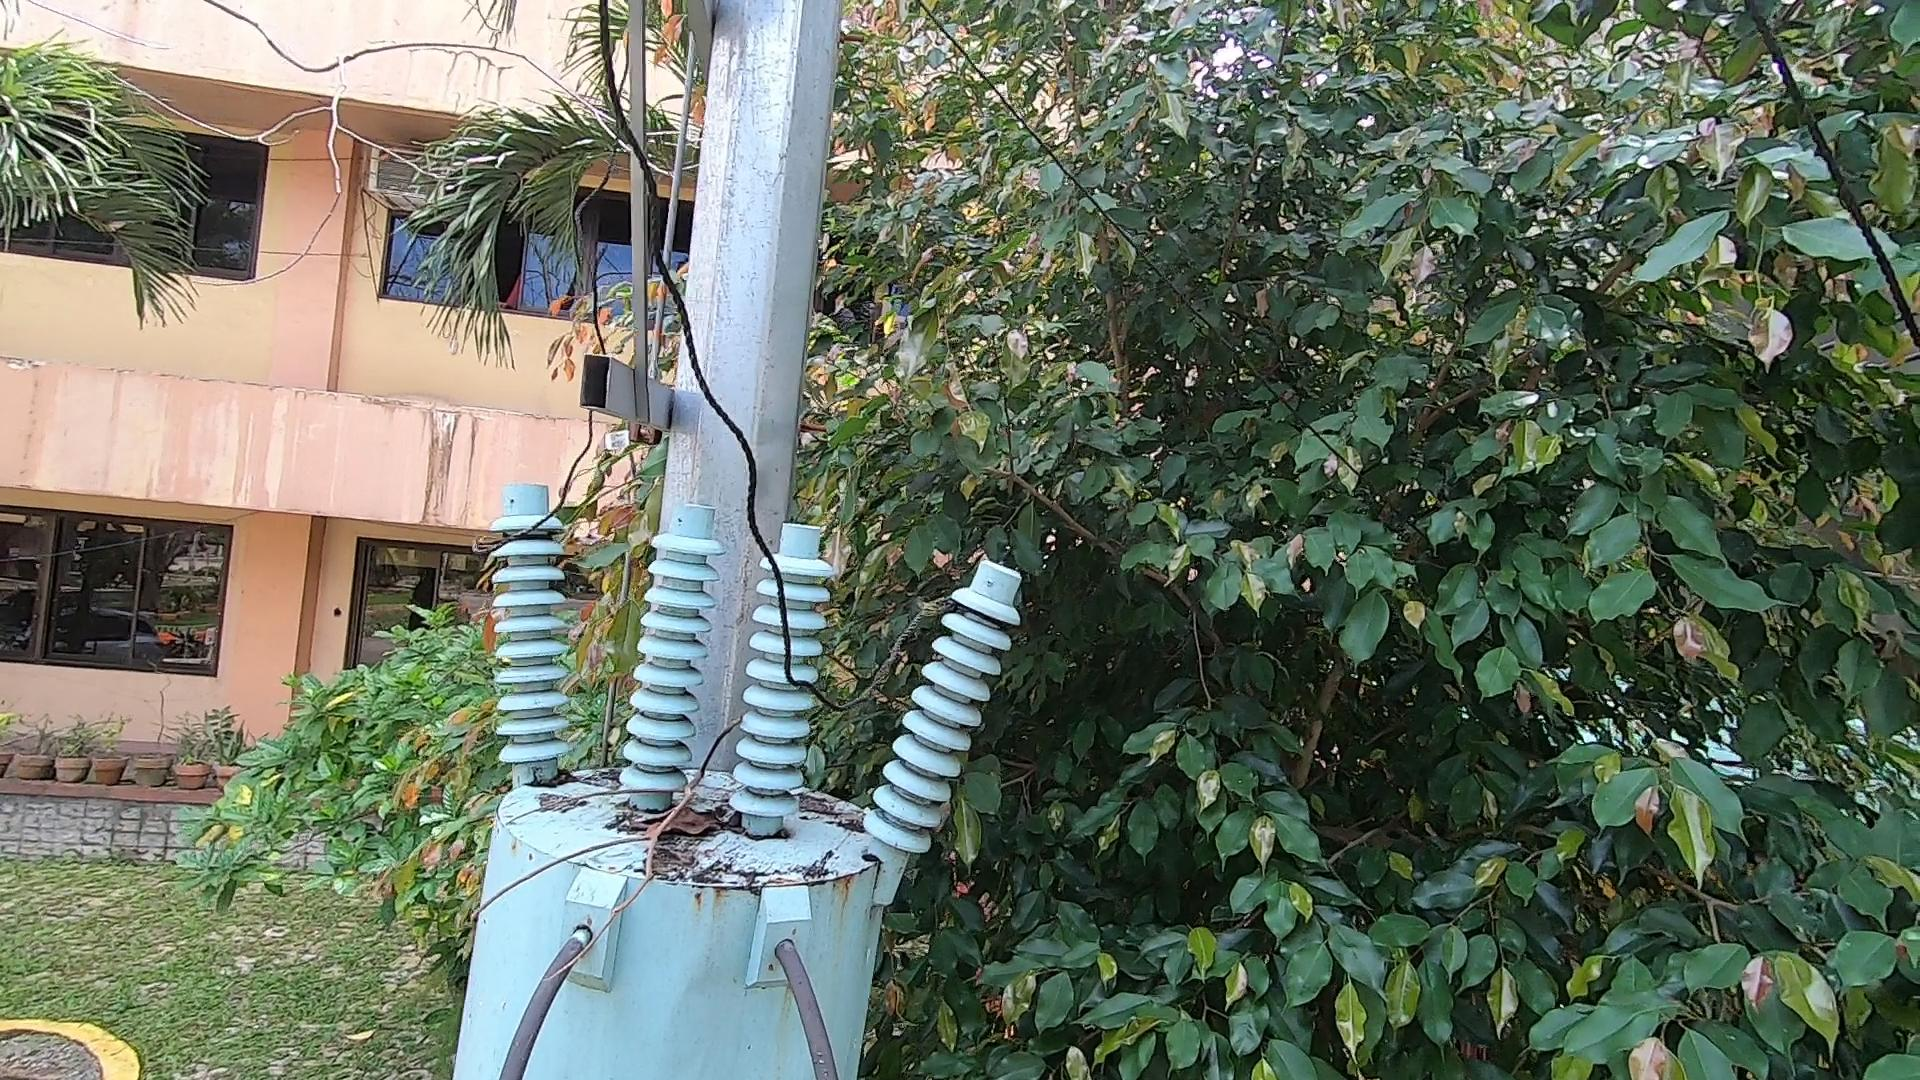leaf: (626, 796, 752, 847), (799, 785, 866, 829), (529, 762, 585, 791)
tree branch: (444, 716, 746, 984)
